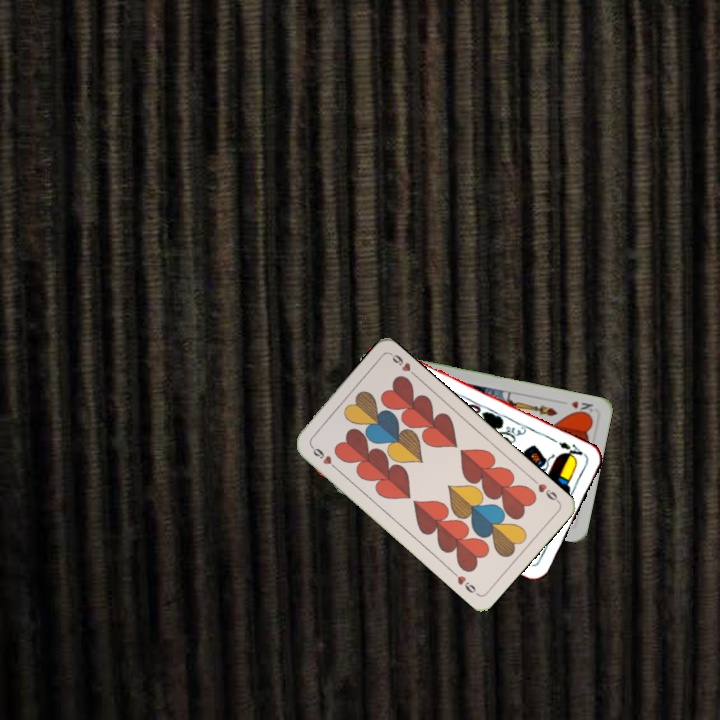EA: (554, 438, 588, 462)
H9: (528, 474, 562, 505), (307, 441, 340, 472)
HK: (567, 397, 597, 418)
